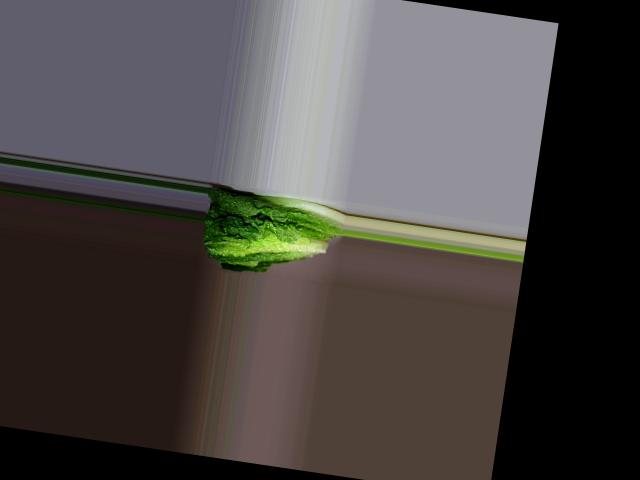lettuce: (197, 182, 341, 275)
